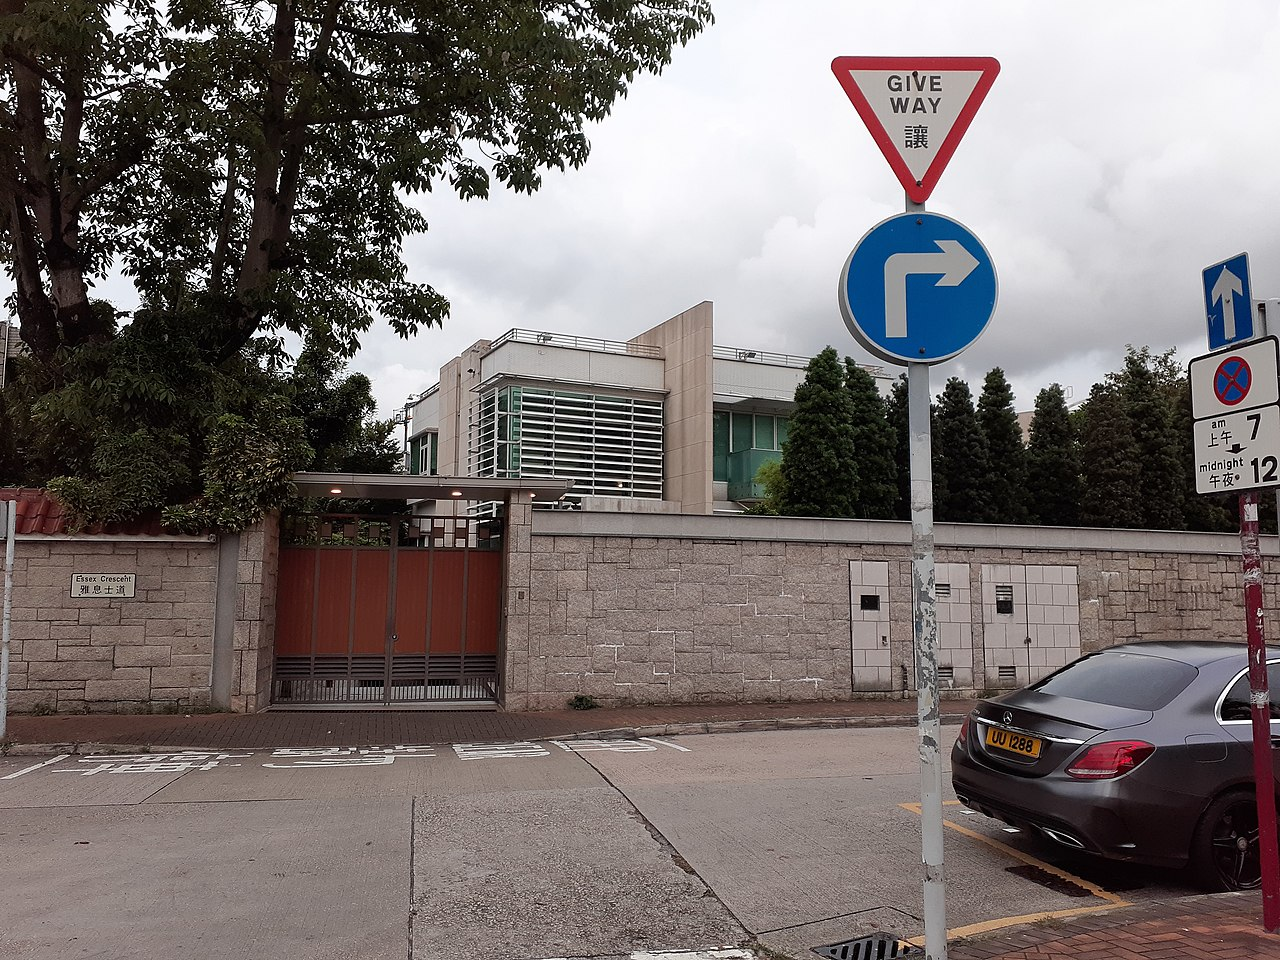Give Way: (824, 52, 1007, 198)
One Way Traffic: (1202, 245, 1257, 345)
Start Of No Stopping: (1180, 338, 1280, 502)
Turn Right: (837, 203, 1009, 368)
